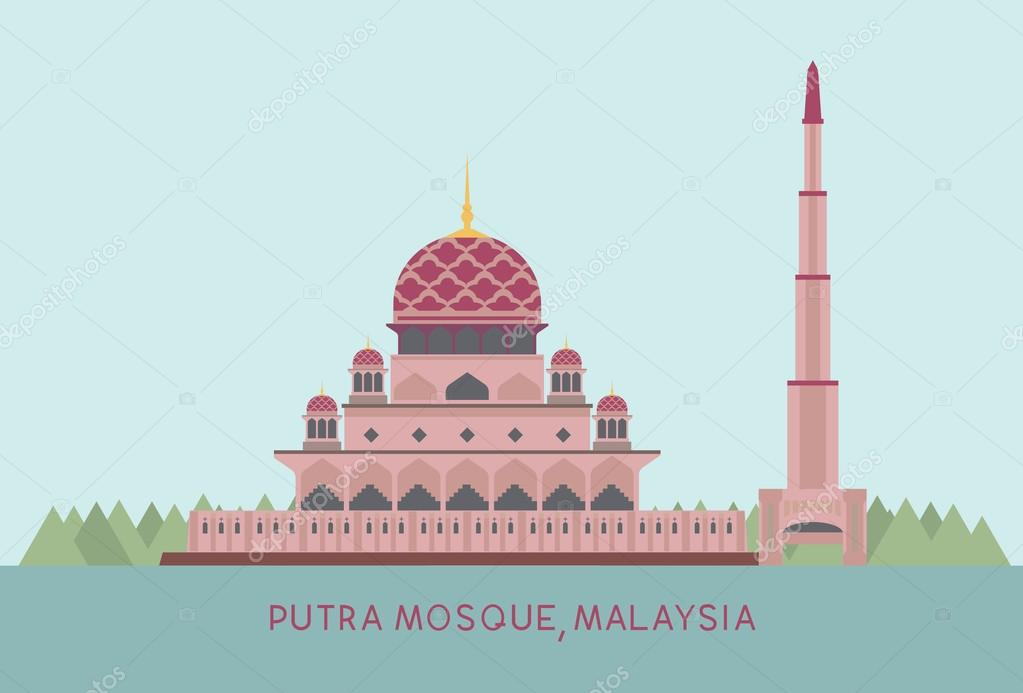Mosque: (234, 52, 859, 568)
